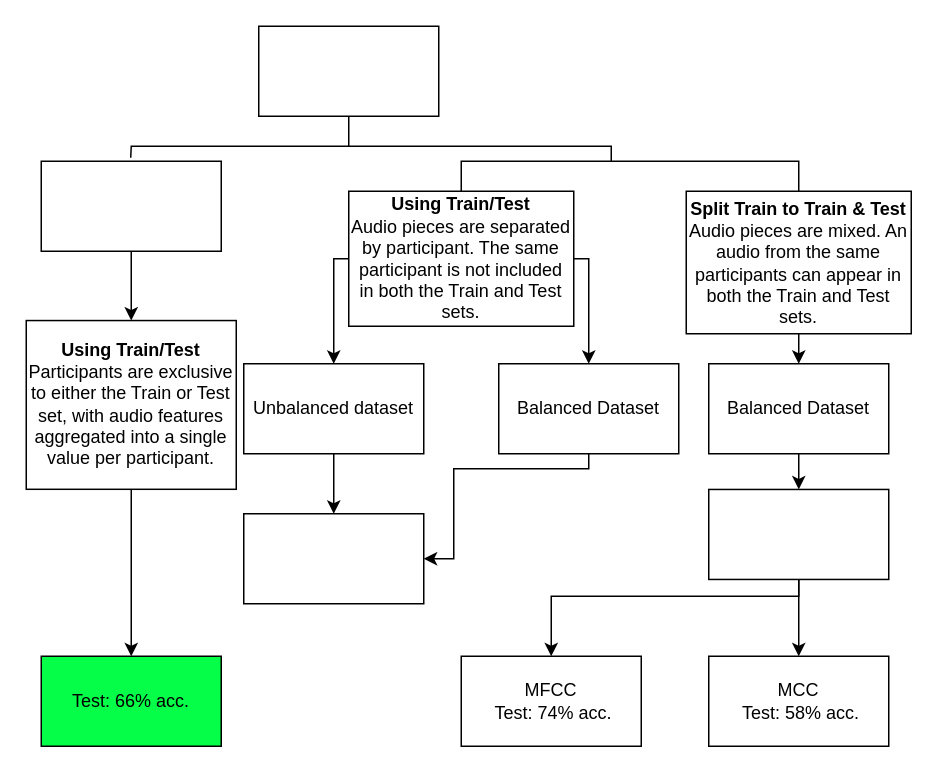
The diagram is 938 pixels wide and 773 high, and some of its shapes have lost their labels. Each missing label, with the box of its shape:
DT (MFCC + other audio features): (40, 160, 221, 251)
Preprocess DAIC-WOZ MFCC and MCC: (257, 25, 439, 116)
TCC (MFCC or MCC): (707, 488, 889, 579)
Using MFCC Different CNNs: Test: ~ 50% acc.: (242, 512, 424, 604)
